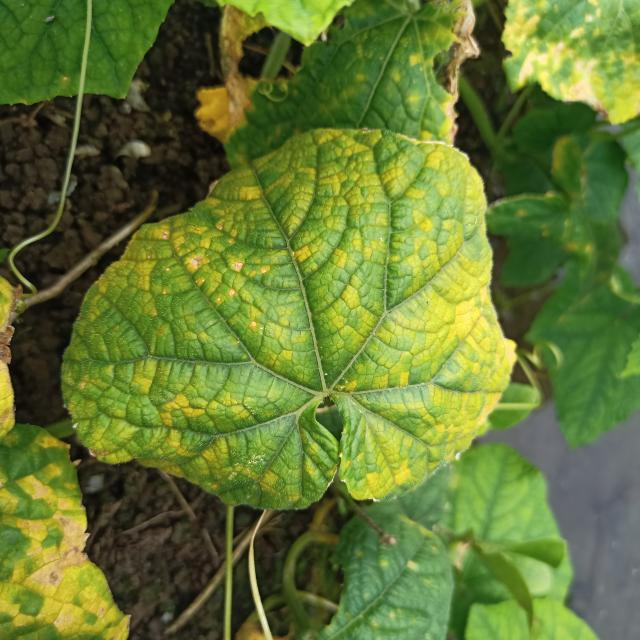disease_cucumber: (77, 126, 509, 500)
